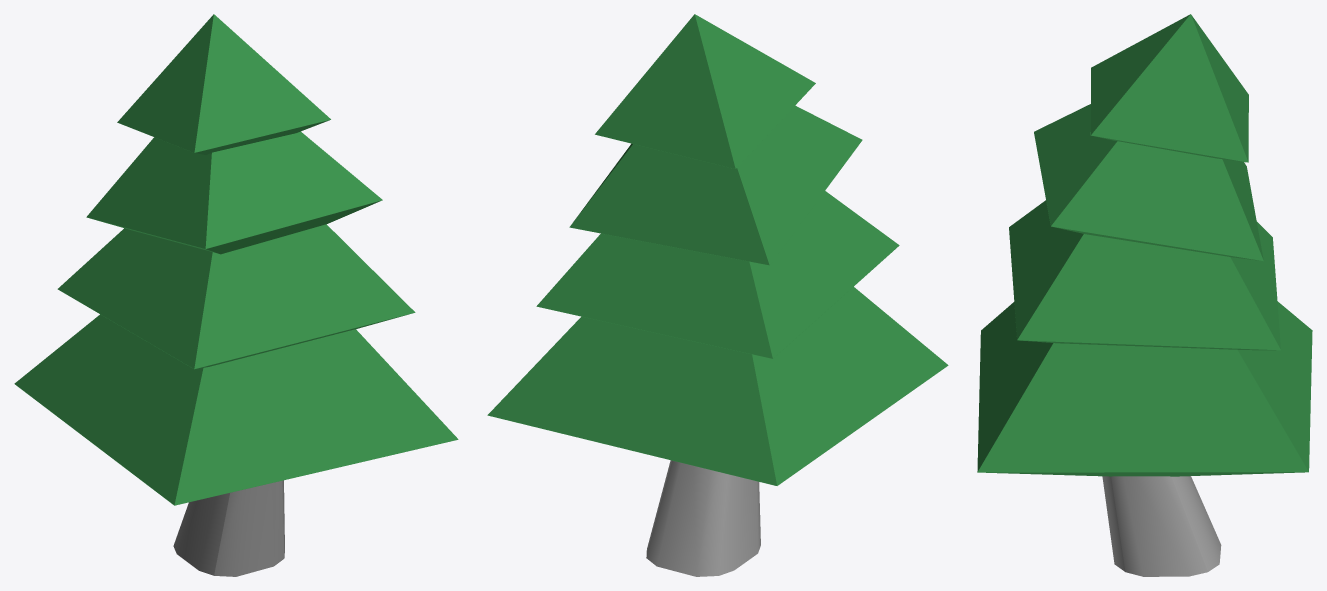
Rendered from Tree_3.fbx.
3 renders of one model, left to right at view 1: azimuth 30°, elevation 25°; view 2: azimuth 150°, elevation 25°; view 3: azimuth 270°, elevation 25°, orthographic. The views are drawn at different scales.
Parts seen in each view (by area): view 1: pPyramid7, pPyramid6, pPyramid5, pPyramid4, pCube36; view 2: pPyramid7, pPyramid6, pPyramid5, pPyramid4, pCube36; view 3: pPyramid7, pPyramid6, pPyramid5, pPyramid4, pCube36.
Part boxes in pixels (x1,y1,x2,y2): pPyramid7: [14, 314, 458, 505]; pPyramid6: [57, 224, 415, 369]; pPyramid5: [86, 131, 382, 254]; pPyramid4: [117, 14, 330, 155]; pCube36: [173, 480, 284, 576]; pPyramid7: [487, 287, 948, 485]; pPyramid6: [536, 191, 899, 358]; pPyramid5: [569, 105, 862, 265]; pPyramid4: [595, 14, 815, 168]; pCube36: [646, 460, 760, 576]; pPyramid7: [977, 301, 1312, 476]; pPyramid6: [1009, 200, 1280, 350]; pPyramid5: [1034, 104, 1263, 261]; pPyramid4: [1090, 14, 1248, 162]; pCube36: [1102, 476, 1221, 576].
Bounding box in the file's own units: 2.09 × 3.71 × 2.09.
